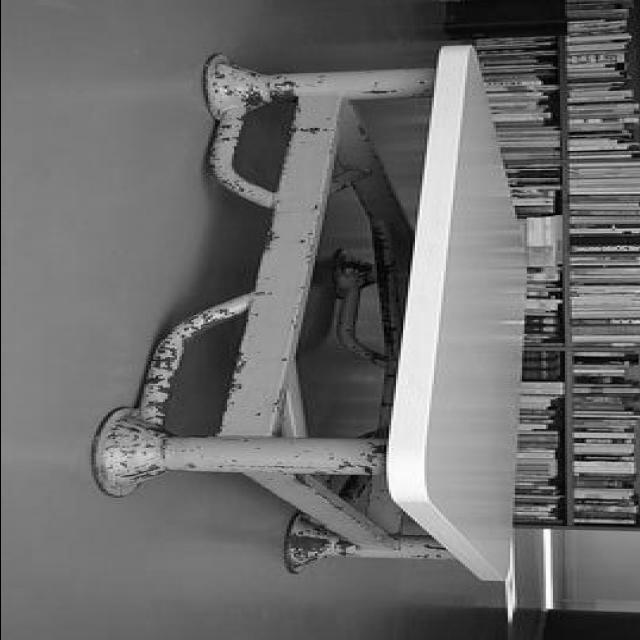table: (89, 49, 522, 584)
